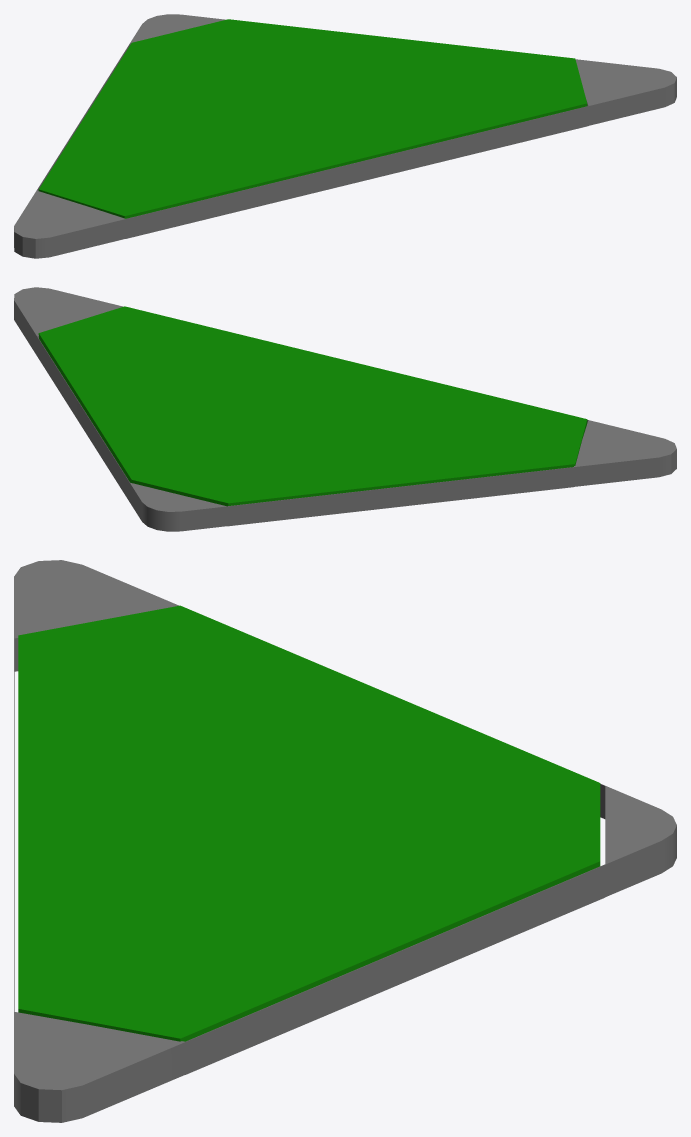
Rendered from LightsG.gltf.
3 views of the same model, one above another, from view 1: azimuth 30°, elevation 25°; view 2: azimuth 150°, elevation 25°; view 3: azimuth 270°, elevation 25° (orthographic). The views are drawn at different scales.
Visible parts, largest first — view 1: pCube5, polySurface1; view 2: pCube5, polySurface1; view 3: pCube5, polySurface1.
Part boxes in pixels (box(x1,y1,x2,y2)): pCube5: box(38, 19, 587, 218); polySurface1: box(14, 14, 676, 258); pCube5: box(38, 306, 587, 506); polySurface1: box(14, 287, 676, 531); pCube5: box(18, 605, 600, 1041); polySurface1: box(14, 560, 676, 1122).
Bounding box in the file's own units: 0.2431 × 0.00778 × 0.1285.
